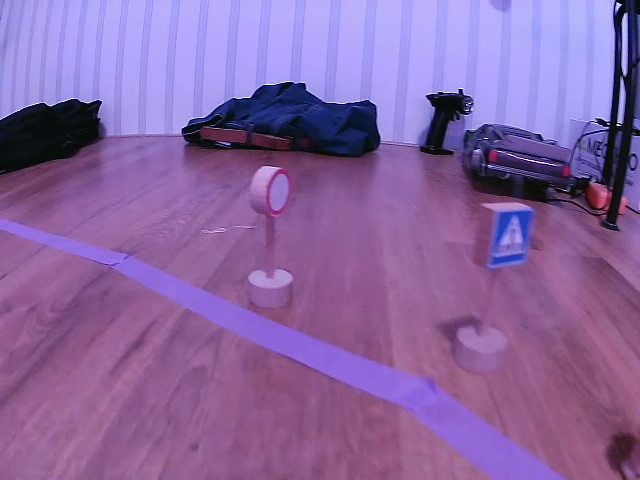wegdicht: (259, 168, 296, 218)
zebrapad: (490, 209, 536, 265)
